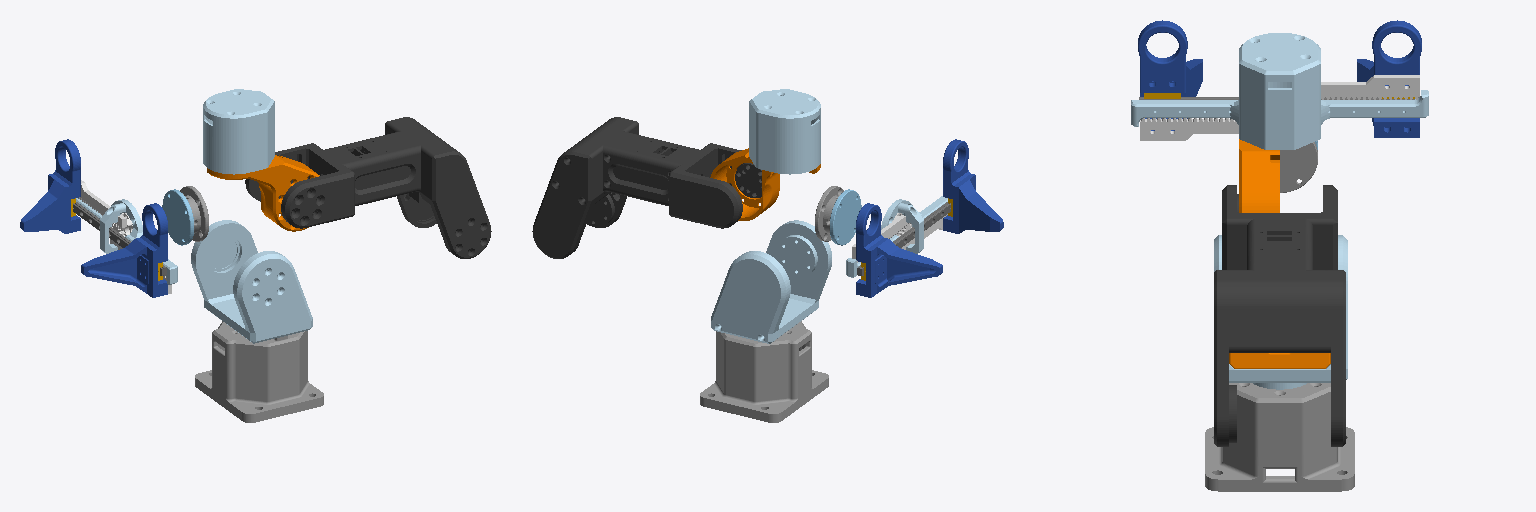
robot.urdf — EL-A3:
<?xml version="1.0" ?>
<!-- Generated using onshape-to-robot -->
<!-- Onshape https://cad.onshape.com/documents/b9fb4e3c9ad889fee0effcbb/w/b159e5d9cfda6d924dd0d8ed/e/339b74478250018c423b323a -->
<robot name="EL-A3">
  <!-- Link l1_urdf_urdf_asm -->
  <link name="l1_urdf_urdf_asm">
    <inertial>
      <origin xyz="-0.000473642 -3.66697e-05 -0.0209915" rpy="0 0 0"/>
      <mass value="0.410786"/>
      <inertia ixx="0.000243951" ixy="-2.931e-09" ixz="-2.71862e-06" iyy="0.000233462" iyz="5.03989e-07" izz="0.000256472"/>
    </inertial>
    <!-- Part rs00_l1 -->
    <visual>
      <origin xyz="0 0 0" rpy="0 -0 0"/>
      <geometry>
        <mesh filename="package://EL-A3/meshes/rs00_l1.stl"/>
      </geometry>
      <material name="rs00_l1_material">
        <color rgba="0.972549 0.529412 0.00392157 1"/>
      </material>
    </visual>
    <collision>
      <origin xyz="0 0 0" rpy="0 -0 0"/>
      <geometry>
        <mesh filename="package://EL-A3/meshes/rs00_l1.stl"/>
      </geometry>
    </collision>
    <!-- Part l1_base -->
    <visual>
      <origin xyz="0 0 0" rpy="0 -0 0"/>
      <geometry>
        <mesh filename="package://EL-A3/meshes/l1_base.stl"/>
      </geometry>
      <material name="l1_base_material">
        <color rgba="0.647059 0.647059 0.647059 1"/>
      </material>
    </visual>
    <collision>
      <origin xyz="0 0 0" rpy="0 -0 0"/>
      <geometry>
        <mesh filename="package://EL-A3/meshes/l1_base.stl"/>
      </geometry>
    </collision>
  </link>
  <!-- Link l1_link_urdf_asm -->
  <link name="l1_link_urdf_asm">
    <inertial>
      <origin xyz="-0.00670261 -0.000377334 0.0342178" rpy="0 0 0"/>
      <mass value="0.140779"/>
      <inertia ixx="0.000189723" ixy="-1.61467e-06" ixz="1.97828e-05" iyy="0.000112632" iyz="3.73644e-06" izz="0.00016217"/>
    </inertial>
    <!-- Part l1_link_stop -->
    <visual>
      <origin xyz="2.26067e-18 -6.01079e-19 -0.0054" rpy="1.09476e-47 1.91584e-47 3.28429e-46"/>
      <geometry>
        <mesh filename="package://EL-A3/meshes/l1_link_stop.stl"/>
      </geometry>
      <material name="l1_link_stop_material">
        <color rgba="0.768627 0.886275 0.952941 1"/>
      </material>
    </visual>
    <collision>
      <origin xyz="2.26067e-18 -6.01079e-19 -0.0054" rpy="1.09476e-47 1.91584e-47 3.28429e-46"/>
      <geometry>
        <mesh filename="package://EL-A3/meshes/l1_link_stop.stl"/>
      </geometry>
    </collision>
    <!-- Part l1_link_drv -->
    <visual>
      <origin xyz="0 1.06042e-18 -0.0054" rpy="1.09476e-47 1.91584e-47 3.28429e-46"/>
      <geometry>
        <mesh filename="package://EL-A3/meshes/l1_link_drv.stl"/>
      </geometry>
      <material name="l1_link_drv_material">
        <color rgba="0.768627 0.886275 0.952941 1"/>
      </material>
    </visual>
    <collision>
      <origin xyz="0 1.06042e-18 -0.0054" rpy="1.09476e-47 1.91584e-47 3.28429e-46"/>
      <geometry>
        <mesh filename="package://EL-A3/meshes/l1_link_drv.stl"/>
      </geometry>
    </collision>
    <!-- Part l2_stop -->
    <visual>
      <origin xyz="-6.83039e-18 9.43921e-18 -0.0054" rpy="1.09476e-47 1.91584e-47 3.28429e-46"/>
      <geometry>
        <mesh filename="package://EL-A3/meshes/l2_stop.stl"/>
      </geometry>
      <material name="l2_stop_material">
        <color rgba="0.972549 0.529412 0.00392157 1"/>
      </material>
    </visual>
    <collision>
      <origin xyz="-6.83039e-18 9.43921e-18 -0.0054" rpy="1.09476e-47 1.91584e-47 3.28429e-46"/>
      <geometry>
        <mesh filename="package://EL-A3/meshes/l2_stop.stl"/>
      </geometry>
    </collision>
  </link>
  <!-- Link l2_l3_urdf_asm -->
  <link name="l2_l3_urdf_asm">
    <inertial>
      <origin xyz="0.095 -3.5032e-07 -0.000569607" rpy="0 0 0"/>
      <mass value="0.83477"/>
      <inertia ixx="0.000411892" ixy="-2.68928e-08" ixz="8.18489e-11" iyy="0.0070909" iyz="-4.27746e-09" izz="0.00710532"/>
    </inertial>
    <!-- Part mainlink_back -->
    <visual>
      <origin xyz="0.0176846 -0.066 0.0005" rpy="-1.5708 1.66533e-16 2.57612e-30"/>
      <geometry>
        <mesh filename="package://EL-A3/meshes/mainlink_back.stl"/>
      </geometry>
      <material name="mainlink_back_material">
        <color rgba="0.647059 0.647059 0.647059 1"/>
      </material>
    </visual>
    <collision>
      <origin xyz="0.0176846 -0.066 0.0005" rpy="-1.5708 1.66533e-16 2.57612e-30"/>
      <geometry>
        <mesh filename="package://EL-A3/meshes/mainlink_back.stl"/>
      </geometry>
    </collision>
    <!-- Part 6705 -->
    <visual>
      <origin xyz="0.0176846 -0.066 0.0005" rpy="-1.5708 1.66533e-16 2.57612e-30"/>
      <geometry>
        <mesh filename="package://EL-A3/meshes/6705.stl"/>
      </geometry>
      <material name="6705_material">
        <color rgba="0.917647 0.917647 0.917647 1"/>
      </material>
    </visual>
    <collision>
      <origin xyz="0.0176846 -0.066 0.0005" rpy="-1.5708 1.66533e-16 2.57612e-30"/>
      <geometry>
        <mesh filename="package://EL-A3/meshes/6705.stl"/>
      </geometry>
    </collision>
    <!-- Part rs00_l2 -->
    <visual>
      <origin xyz="0.0176846 -0.066 2.53896e-16" rpy="-1.5708 1.66533e-16 2.57612e-30"/>
      <geometry>
        <mesh filename="package://EL-A3/meshes/rs00_l2.stl"/>
      </geometry>
      <material name="rs00_l2_material">
        <color rgba="0.972549 0.529412 0.00392157 1"/>
      </material>
    </visual>
    <collision>
      <origin xyz="0.0176846 -0.066 2.53896e-16" rpy="-1.5708 1.66533e-16 2.57612e-30"/>
      <geometry>
        <mesh filename="package://EL-A3/meshes/rs00_l2.stl"/>
      </geometry>
    </collision>
    <!-- Part mainlink_motor -->
    <visual>
      <origin xyz="0.0176846 -0.066 3.26755e-16" rpy="-1.5708 6.05072e-15 5.22665e-15"/>
      <geometry>
        <mesh filename="package://EL-A3/meshes/mainlink_motor.stl"/>
      </geometry>
      <material name="mainlink_motor_material">
        <color rgba="0.647059 0.647059 0.647059 1"/>
      </material>
    </visual>
    <collision>
      <origin xyz="0.0176846 -0.066 3.26755e-16" rpy="-1.5708 6.05072e-15 5.22665e-15"/>
      <geometry>
        <mesh filename="package://EL-A3/meshes/mainlink_motor.stl"/>
      </geometry>
    </collision>
    <!-- Part 6705_2 -->
    <visual>
      <origin xyz="0.0176846 -0.066 0.0005" rpy="-1.5708 1.66533e-16 2.57612e-30"/>
      <geometry>
        <mesh filename="package://EL-A3/meshes/6705__2.stl"/>
      </geometry>
      <material name="6705_2_material">
        <color rgba="0.231373 0.380392 0.705882 1"/>
      </material>
    </visual>
    <collision>
      <origin xyz="0.0176846 -0.066 0.0005" rpy="-1.5708 1.66533e-16 2.57612e-30"/>
      <geometry>
        <mesh filename="package://EL-A3/meshes/6705__2.stl"/>
      </geometry>
    </collision>
    <!-- Part rs00_l3 -->
    <visual>
      <origin xyz="0.0176846 -0.066 2.78182e-16" rpy="-1.5708 7.99361e-15 4.04823e-15"/>
      <geometry>
        <mesh filename="package://EL-A3/meshes/rs00_l3.stl"/>
      </geometry>
      <material name="rs00_l3_material">
        <color rgba="0.972549 0.529412 0.00392157 1"/>
      </material>
    </visual>
    <collision>
      <origin xyz="0.0176846 -0.066 2.78182e-16" rpy="-1.5708 7.99361e-15 4.04823e-15"/>
      <geometry>
        <mesh filename="package://EL-A3/meshes/rs00_l3.stl"/>
      </geometry>
    </collision>
  </link>
  <!-- Link l3_lnik_urdf_asm -->
  <link name="l3_lnik_urdf_asm">
    <inertial>
      <origin xyz="-0.055871 0.0492802 0.0027754" rpy="0 0 0"/>
      <mass value="0.197637"/>
      <inertia ixx="0.000241191" ixy="0.000108757" ixz="-7.09292e-06" iyy="0.000663739" iyz="6.85788e-06" izz="0.000641507"/>
    </inertial>
    <!-- Part l4_link_back -->
    <visual>
      <origin xyz="-0.172315 -0.066 -3.46945e-18" rpy="-1.5708 5.55112e-16 -5.55112e-16"/>
      <geometry>
        <mesh filename="package://EL-A3/meshes/l4_link_back.stl"/>
      </geometry>
      <material name="l4_link_back_material">
        <color rgba="0.301961 0.301961 0.301961 1"/>
      </material>
    </visual>
    <collision>
      <origin xyz="-0.172315 -0.066 -3.46945e-18" rpy="-1.5708 5.55112e-16 -5.55112e-16"/>
      <geometry>
        <mesh filename="package://EL-A3/meshes/l4_link_back.stl"/>
      </geometry>
    </collision>
    <!-- Part l4_link_drv -->
    <visual>
      <origin xyz="-0.172315 -0.066 -3.46945e-18" rpy="-1.5708 1.43837e-31 -2.87116e-31"/>
      <geometry>
        <mesh filename="package://EL-A3/meshes/l4_link_drv.stl"/>
      </geometry>
      <material name="l4_link_drv_material">
        <color rgba="0.301961 0.301961 0.301961 1"/>
      </material>
    </visual>
    <collision>
      <origin xyz="-0.172315 -0.066 -3.46945e-18" rpy="-1.5708 1.43837e-31 -2.87116e-31"/>
      <geometry>
        <mesh filename="package://EL-A3/meshes/l4_link_drv.stl"/>
      </geometry>
    </collision>
  </link>
  <!-- Link l4_l5_urdf_asm -->
  <link name="l4_l5_urdf_asm">
    <inertial>
      <origin xyz="-0.0242557 0.0305328 -0.000278918" rpy="0 0 0"/>
      <mass value="0.46061"/>
      <inertia ixx="0.000570996" ixy="0.000329291" ixz="3.22513e-06" iyy="0.000412235" iyz="-4.05021e-06" izz="0.000827873"/>
    </inertial>
    <!-- Part el05_l5 -->
    <visual>
      <origin xyz="-0.0223154 -0.126 2.45554e-16" rpy="-1.5708 -2.77556e-16 -2.22399e-16"/>
      <geometry>
        <mesh filename="package://EL-A3/meshes/el05_l5.stl"/>
      </geometry>
      <material name="el05_l5_material">
        <color rgba="1 1 1 1"/>
      </material>
    </visual>
    <collision>
      <origin xyz="-0.0223154 -0.126 2.45554e-16" rpy="-1.5708 -2.77556e-16 -2.22399e-16"/>
      <geometry>
        <mesh filename="package://EL-A3/meshes/el05_l5.stl"/>
      </geometry>
    </collision>
    <!-- Part l4_l5_link_back -->
    <visual>
      <origin xyz="-0.0223154 -0.126 3.01066e-16" rpy="-1.5708 -2.77556e-16 -2.22399e-16"/>
      <geometry>
        <mesh filename="package://EL-A3/meshes/l4_l5_link_back.stl"/>
      </geometry>
      <material name="l4_l5_link_back_material">
        <color rgba="0.917647 0.917647 0.917647 1"/>
      </material>
    </visual>
    <collision>
      <origin xyz="-0.0223154 -0.126 3.01066e-16" rpy="-1.5708 -2.77556e-16 -2.22399e-16"/>
      <geometry>
        <mesh filename="package://EL-A3/meshes/l4_l5_link_back.stl"/>
      </geometry>
    </collision>
    <!-- Part l5_shake -->
    <visual>
      <origin xyz="-0.0223154 -0.126 3.01066e-16" rpy="-1.5708 -2.77556e-16 -2.22399e-16"/>
      <geometry>
        <mesh filename="package://EL-A3/meshes/l5_shake.stl"/>
      </geometry>
      <material name="l5_shake_material">
        <color rgba="0.768627 0.886275 0.952941 1"/>
      </material>
    </visual>
    <collision>
      <origin xyz="-0.0223154 -0.126 3.01066e-16" rpy="-1.5708 -2.77556e-16 -2.22399e-16"/>
      <geometry>
        <mesh filename="package://EL-A3/meshes/l5_shake.stl"/>
      </geometry>
    </collision>
    <!-- Part l4_l5_link_back_2 -->
    <visual>
      <origin xyz="-0.0223154 -0.126 2.45554e-16" rpy="-1.5708 -2.77556e-16 -2.22399e-16"/>
      <geometry>
        <mesh filename="package://EL-A3/meshes/l4_l5_link_back__2.stl"/>
      </geometry>
      <material name="l4_l5_link_back_2_material">
        <color rgba="0.972549 0.529412 0.00392157 1"/>
      </material>
    </visual>
    <collision>
      <origin xyz="-0.0223154 -0.126 2.45554e-16" rpy="-1.5708 -2.77556e-16 -2.22399e-16"/>
      <geometry>
        <mesh filename="package://EL-A3/meshes/l4_l5_link_back__2.stl"/>
      </geometry>
    </collision>
    <!-- Part el05_l4 -->
    <visual>
      <origin xyz="-0.0223154 -0.126 2.87188e-16" rpy="-1.5708 9.43028e-33 0"/>
      <geometry>
        <mesh filename="package://EL-A3/meshes/el05_l4.stl"/>
      </geometry>
      <material name="el05_l4_material">
        <color rgba="1 1 1 1"/>
      </material>
    </visual>
    <collision>
      <origin xyz="-0.0223154 -0.126 2.87188e-16" rpy="-1.5708 9.43028e-33 0"/>
      <geometry>
        <mesh filename="package://EL-A3/meshes/el05_l4.stl"/>
      </geometry>
    </collision>
  </link>
  <!-- Link part_9 -->
  <link name="part_9">
    <inertial>
      <origin xyz="0.00409925 -1.0722e-09 0.0175115" rpy="0 0 0"/>
      <mass value="0.0179604"/>
      <inertia ixx="5.21557e-06" ixy="1.22247e-12" ixz="-1.22439e-06" iyy="5.09769e-06" iyz="2.3586e-12" izz="2.51483e-06"/>
    </inertial>
    <!-- Part part_9 -->
    <visual>
      <origin xyz="0.0268846 -2.5078e-16 0.164" rpy="3.14159 -0 -3.26817e-31"/>
      <geometry>
        <mesh filename="package://EL-A3/meshes/part_9.stl"/>
      </geometry>
      <material name="part_9_material">
        <color rgba="0.972549 0.529412 0.00392157 1"/>
      </material>
    </visual>
    <collision>
      <origin xyz="0.0268846 -2.5078e-16 0.164" rpy="3.14159 -0 -3.26817e-31"/>
      <geometry>
        <mesh filename="package://EL-A3/meshes/part_9.stl"/>
      </geometry>
    </collision>
  </link>
  <!-- Link l5_l6_urdf_asm -->
  <link name="l5_l6_urdf_asm">
    <inertial>
      <origin xyz="-1.18731e-05 -0.000611886 0.0702025" rpy="0 0 0"/>
      <mass value="0.53126"/>
      <inertia ixx="0.00100377" ixy="4.96962e-06" ixz="-1.08455e-07" iyy="0.00139938" iyz="1.67389e-05" izz="0.000542"/>
    </inertial>
    <!-- Part part_2 -->
    <visual>
      <origin xyz="-9.66421e-16 -1.58207e-15 0.062" rpy="8.13782e-16 1.5708 0"/>
      <geometry>
        <mesh filename="package://EL-A3/meshes/part_2.stl"/>
      </geometry>
      <material name="part_2_material">
        <color rgba="0.647059 0.647059 0.647059 1"/>
      </material>
    </visual>
    <collision>
      <origin xyz="-9.66421e-16 -1.58207e-15 0.062" rpy="8.13782e-16 1.5708 0"/>
      <geometry>
        <mesh filename="package://EL-A3/meshes/part_2.stl"/>
      </geometry>
    </collision>
    <!-- Part hand_r -->
    <visual>
      <origin xyz="7.53017e-05 -2.08167e-15 0.0755" rpy="-3.36122e-15 -2.77556e-16 -8.87069e-18"/>
      <geometry>
        <mesh filename="package://EL-A3/meshes/hand_r.stl"/>
      </geometry>
      <material name="hand_r_material">
        <color rgba="0.231373 0.380392 0.705882 1"/>
      </material>
    </visual>
    <collision>
      <origin xyz="7.53017e-05 -2.08167e-15 0.0755" rpy="-3.36122e-15 -2.77556e-16 -8.87069e-18"/>
      <geometry>
        <mesh filename="package://EL-A3/meshes/hand_r.stl"/>
      </geometry>
    </collision>
    <!-- Part el05 -->
    <visual>
      <origin xyz="-1.08051e-15 -2.19269e-15 0.0755" rpy="1.86179e-16 -5.55112e-17 1.57663e-16"/>
      <geometry>
        <mesh filename="package://EL-A3/meshes/el05.stl"/>
      </geometry>
      <material name="el05_material">
        <color rgba="1 1 1 1"/>
      </material>
    </visual>
    <collision>
      <origin xyz="-1.08051e-15 -2.19269e-15 0.0755" rpy="1.86179e-16 -5.55112e-17 1.57663e-16"/>
      <geometry>
        <mesh filename="package://EL-A3/meshes/el05.stl"/>
      </geometry>
    </collision>
    <!-- Part rack__30_teeth -->
    <visual>
      <origin xyz="7.53017e-05 -1.97065e-15 0.0755" rpy="1.48303e-16 -5.55112e-16 -1.19893e-16"/>
      <geometry>
        <mesh filename="package://EL-A3/meshes/rack__30_teeth.stl"/>
      </geometry>
      <material name="rack__30_teeth_material">
        <color rgba="0.917647 0.917647 0.917647 1"/>
      </material>
    </visual>
    <collision>
      <origin xyz="7.53017e-05 -1.97065e-15 0.0755" rpy="1.48303e-16 -5.55112e-16 -1.19893e-16"/>
      <geometry>
        <mesh filename="package://EL-A3/meshes/rack__30_teeth.stl"/>
      </geometry>
    </collision>
    <!-- Part manifold_solid_brep_39_1 -->
    <visual>
      <origin xyz="0.003 -2.27596e-15 0.0755" rpy="4.99255e-16 -4.44089e-16 -9.21374e-17"/>
      <geometry>
        <mesh filename="package://EL-A3/meshes/manifold_solid_brep_39_1.stl"/>
      </geometry>
      <material name="manifold_solid_brep_39_1_material">
        <color rgba="0.980392 0.713725 0.00392157 1"/>
      </material>
    </visual>
    <collision>
      <origin xyz="0.003 -2.27596e-15 0.0755" rpy="4.99255e-16 -4.44089e-16 -9.21374e-17"/>
      <geometry>
        <mesh filename="package://EL-A3/meshes/manifold_solid_brep_39_1.stl"/>
      </geometry>
    </collision>
    <!-- Part rack__30_teeth_2 -->
    <visual>
      <origin xyz="-7.53017e-05 -2.41474e-15 0.0755" rpy="-1.7417e-16 -2.22045e-16 -6.43818e-17"/>
      <geometry>
        <mesh filename="package://EL-A3/meshes/rack__30_teeth__2.stl"/>
      </geometry>
      <material name="rack__30_teeth_2_material">
        <color rgba="0.917647 0.917647 0.917647 1"/>
      </material>
    </visual>
    <collision>
      <origin xyz="-7.53017e-05 -2.41474e-15 0.0755" rpy="-1.7417e-16 -2.22045e-16 -6.43818e-17"/>
      <geometry>
        <mesh filename="package://EL-A3/meshes/rack__30_teeth__2.stl"/>
      </geometry>
    </collision>
    <!-- Part manifold_solid_brep_39_1_2 -->
    <visual>
      <origin xyz="-0.003 -2.10942e-15 0.0755" rpy="4.99255e-16 -4.44089e-16 -9.21374e-17"/>
      <geometry>
        <mesh filename="package://EL-A3/meshes/manifold_solid_brep_39_1__2.stl"/>
      </geometry>
      <material name="manifold_solid_brep_39_1_2_material">
        <color rgba="0.980392 0.713725 0.00392157 1"/>
      </material>
    </visual>
    <collision>
      <origin xyz="-0.003 -2.10942e-15 0.0755" rpy="4.99255e-16 -4.44089e-16 -9.21374e-17"/>
      <geometry>
        <mesh filename="package://EL-A3/meshes/manifold_solid_brep_39_1__2.stl"/>
      </geometry>
    </collision>
    <!-- Part rack_base -->
    <visual>
      <origin xyz="-1.10827e-15 -2.19269e-15 0.0755" rpy="2.24151e-16 -1.66533e-16 4.66405e-17"/>
      <geometry>
        <mesh filename="package://EL-A3/meshes/rack_base.stl"/>
      </geometry>
      <material name="rack_base_material">
        <color rgba="0.768627 0.886275 0.952941 1"/>
      </material>
    </visual>
    <collision>
      <origin xyz="-1.10827e-15 -2.19269e-15 0.0755" rpy="2.24151e-16 -1.66533e-16 4.66405e-17"/>
      <geometry>
        <mesh filename="package://EL-A3/meshes/rack_base.stl"/>
      </geometry>
    </collision>
    <!-- Part rack_str -->
    <visual>
      <origin xyz="-1.10827e-15 -2.19269e-15 0.0755" rpy="2.24151e-16 -1.66533e-16 4.66405e-17"/>
      <geometry>
        <mesh filename="package://EL-A3/meshes/rack_str.stl"/>
      </geometry>
      <material name="rack_str_material">
        <color rgba="0.768627 0.886275 0.952941 1"/>
      </material>
    </visual>
    <collision>
      <origin xyz="-1.10827e-15 -2.19269e-15 0.0755" rpy="2.24151e-16 -1.66533e-16 4.66405e-17"/>
      <geometry>
        <mesh filename="package://EL-A3/meshes/rack_str.stl"/>
      </geometry>
    </collision>
    <!-- Part part_1 -->
    <visual>
      <origin xyz="-9.45604e-16 -1.58207e-15 0.062" rpy="8.13782e-16 1.5708 0"/>
      <geometry>
        <mesh filename="package://EL-A3/meshes/part_1.stl"/>
      </geometry>
      <material name="part_1_material">
        <color rgba="0.615686 0.811765 0.929412 1"/>
      </material>
    </visual>
    <collision>
      <origin xyz="-9.45604e-16 -1.58207e-15 0.062" rpy="8.13782e-16 1.5708 0"/>
      <geometry>
        <mesh filename="package://EL-A3/meshes/part_1.stl"/>
      </geometry>
    </collision>
    <!-- Part el05_2 -->
    <visual>
      <origin xyz="-1.69309e-18 -2.77556e-17 0.0305" rpy="3.14159 -4.59176e-29 7.4396e-17"/>
      <geometry>
        <mesh filename="package://EL-A3/meshes/el05.stl"/>
      </geometry>
      <material name="el05_2_material">
        <color rgba="1 1 1 1"/>
      </material>
    </visual>
    <collision>
      <origin xyz="-1.69309e-18 -2.77556e-17 0.0305" rpy="3.14159 -4.59176e-29 7.4396e-17"/>
      <geometry>
        <mesh filename="package://EL-A3/meshes/el05.stl"/>
      </geometry>
    </collision>
    <!-- Part spur_gear__14_teeth -->
    <visual>
      <origin xyz="-1.95241e-14 6.245e-15 0.0755" rpy="2.24151e-16 -1.66533e-16 4.66405e-17"/>
      <geometry>
        <mesh filename="package://EL-A3/meshes/spur_gear__14_teeth.stl"/>
      </geometry>
      <material name="spur_gear__14_teeth_material">
        <color rgba="0.917647 0.917647 0.917647 1"/>
      </material>
    </visual>
    <collision>
      <origin xyz="-1.95241e-14 6.245e-15 0.0755" rpy="2.24151e-16 -1.66533e-16 4.66405e-17"/>
      <geometry>
        <mesh filename="package://EL-A3/meshes/spur_gear__14_teeth.stl"/>
      </geometry>
    </collision>
    <!-- Part part_15 -->
    <visual>
      <origin xyz="-7.53017e-05 -2.08167e-15 0.0755" rpy="-2.64982e-15 -5.55112e-17 -3.66263e-17"/>
      <geometry>
        <mesh filename="package://EL-A3/meshes/part_15.stl"/>
      </geometry>
      <material name="part_15_material">
        <color rgba="0.231373 0.380392 0.705882 1"/>
      </material>
    </visual>
    <collision>
      <origin xyz="-7.53017e-05 -2.08167e-15 0.0755" rpy="-2.64982e-15 -5.55112e-17 -3.66263e-17"/>
      <geometry>
        <mesh filename="package://EL-A3/meshes/part_15.stl"/>
      </geometry>
    </collision>
    <!-- Part manifold_solid_brep_40_1 -->
    <visual>
      <origin xyz="-1.10827e-15 -2.19269e-15 0.0755" rpy="4.99255e-16 -4.44089e-16 -9.21374e-17"/>
      <geometry>
        <mesh filename="package://EL-A3/meshes/manifold_solid_brep_40_1.stl"/>
      </geometry>
      <material name="manifold_solid_brep_40_1_material">
        <color rgba="0.498039 0.498039 0.498039 1"/>
      </material>
    </visual>
    <collision>
      <origin xyz="-1.10827e-15 -2.19269e-15 0.0755" rpy="4.99255e-16 -4.44089e-16 -9.21374e-17"/>
      <geometry>
        <mesh filename="package://EL-A3/meshes/manifold_solid_brep_40_1.stl"/>
      </geometry>
    </collision>
  </link>
  <!-- Joint from part_9 to l5_l6_urdf_asm -->
  <joint name="L6_joint" type="revolute">
    <origin xyz="0.00805 -2.43484e-16 0.038" rpy="1.5708 -0 -1.5708"/>
    <parent link="part_9"/>
    <child link="l5_l6_urdf_asm"/>
    <axis xyz="0 0 1"/>
    <limit effort="10" velocity="10" lower="-1.5708" upper="1.5708"/>
  </joint>
  <!-- Joint from l4_l5_urdf_asm to part_9 -->
  <joint name="L5_joint" type="revolute">
    <origin xyz="-0.0492 0.038 5.21266e-16" rpy="1.5708 7.74027e-15 7.55994e-16"/>
    <parent link="l4_l5_urdf_asm"/>
    <child link="part_9"/>
    <axis xyz="0 0 1"/>
    <limit effort="10" velocity="10" lower="-1.5708" upper="1.5708"/>
  </joint>
  <!-- Joint from l3_lnik_urdf_asm to l4_l5_urdf_asm -->
  <joint name="L4_joint" type="revolute">
    <origin xyz="-0.15 0.06 -3.01799e-16" rpy="-2.11956e-15 1.59132e-15 -3.33707e-16"/>
    <parent link="l3_lnik_urdf_asm"/>
    <child link="l4_l5_urdf_asm"/>
    <axis xyz="0 0 1"/>
    <limit effort="10" velocity="10" lower="-1.5708" upper="1.5708"/>
  </joint>
  <!-- Joint from l2_l3_urdf_asm to l3_lnik_urdf_asm -->
  <joint name="L3_joint" type="revolute">
    <origin xyz="0.19 6.66134e-16 -1.00745e-15" rpy="2.11956e-15 -1.67106e-15 4.38194e-15"/>
    <parent link="l2_l3_urdf_asm"/>
    <child link="l3_lnik_urdf_asm"/>
    <axis xyz="0 0 1"/>
    <limit effort="10" velocity="10" lower="-4.01426" upper="4.44089e-15"/>
  </joint>
  <!-- Joint from l1_link_urdf_asm to l2_l3_urdf_asm -->
  <joint name="L2_joint" type="revolute">
    <origin xyz="-0.0176846 -2.40902e-18 0.0606" rpy="1.5708 1.91584e-47 3.28429e-46"/>
    <parent link="l1_link_urdf_asm"/>
    <child link="l2_l3_urdf_asm"/>
    <axis xyz="0 0 1"/>
    <limit effort="10" velocity="10" lower="-0" upper="3.66519"/>
  </joint>
  <!-- Joint from l1_urdf_urdf_asm to l1_link_urdf_asm -->
  <joint name="L1_joint" type="revolute">
    <origin xyz="8.12654e-35 1.92593e-34 0.0054" rpy="-4.43734e-31 -2.83497e-31 -5.55112e-17"/>
    <parent link="l1_urdf_urdf_asm"/>
    <child link="l1_link_urdf_asm"/>
    <axis xyz="0 0 1"/>
    <limit effort="10" velocity="10" lower="-2.79253" upper="2.79253"/>
  </joint>
</robot>

--- Render facts (derived) ---
The picture shows the robot from 3 angles, left to right: view 1: azimuth 30°, elevation 25°; view 2: azimuth 150°, elevation 25°; view 3: azimuth 270°, elevation 25°; orthographic projection.
Model EL-A3 with 7 links and 6 joints (6 revolute), rooted at l1_urdf_urdf_asm, posed all joints at 0.
Links seen in each view (by area): view 1: l3_lnik_urdf_asm, l5_l6_urdf_asm, l1_link_urdf_asm, l1_urdf_urdf_asm, l4_l5_urdf_asm; view 2: l3_lnik_urdf_asm, l5_l6_urdf_asm, l1_link_urdf_asm, l1_urdf_urdf_asm, l4_l5_urdf_asm; view 3: l3_lnik_urdf_asm, l5_l6_urdf_asm, l1_urdf_urdf_asm, l4_l5_urdf_asm, l1_link_urdf_asm.
Boxes of the visible links, x1,y1,x2,y2 form: l3_lnik_urdf_asm: (245, 117, 491, 258); l5_l6_urdf_asm: (20, 139, 208, 297); l1_link_urdf_asm: (191, 220, 312, 343); l1_urdf_urdf_asm: (195, 321, 323, 422); l4_l5_urdf_asm: (203, 89, 319, 231); l3_lnik_urdf_asm: (532, 117, 761, 258); l5_l6_urdf_asm: (815, 139, 1003, 297); l1_link_urdf_asm: (711, 220, 831, 343); l1_urdf_urdf_asm: (700, 321, 828, 422); l4_l5_urdf_asm: (710, 89, 820, 220); l3_lnik_urdf_asm: (1214, 185, 1345, 446); l5_l6_urdf_asm: (1131, 20, 1428, 192); l1_urdf_urdf_asm: (1205, 383, 1354, 491); l4_l5_urdf_asm: (1239, 33, 1320, 212); l1_link_urdf_asm: (1214, 235, 1347, 389).
Bounding box of the posed robot: 0.3892 × 0.18 × 0.266 m (x, y, z).
20 mesh visuals loaded from 32 distinct referenced files (20 binary STL); not drawn: 13 (reference not matched to a file when rendering).
